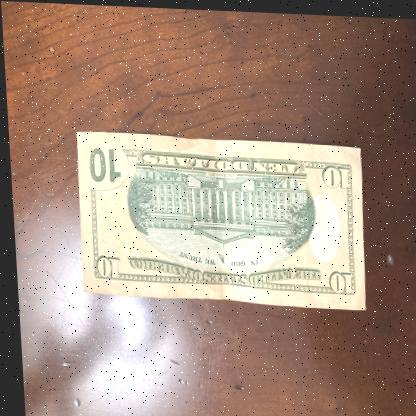ten-back: (72, 129, 365, 306)
